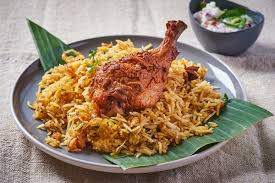briyani: (35, 33, 225, 156)
